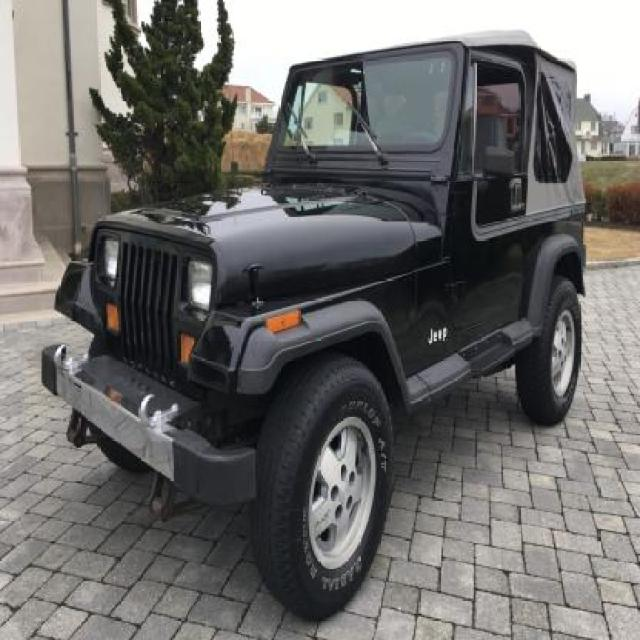Jeep: (31, 24, 597, 619)
